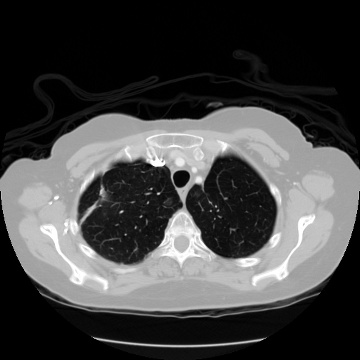PN: (164, 198, 172, 206)
